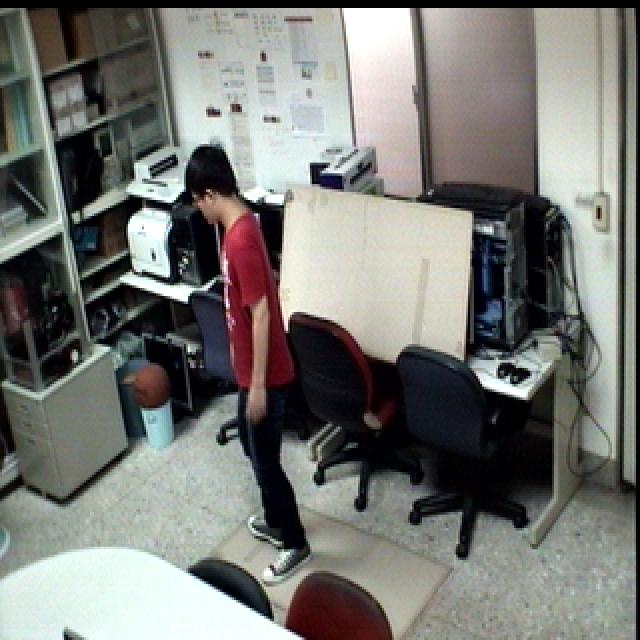stand: (170, 141, 319, 590)
